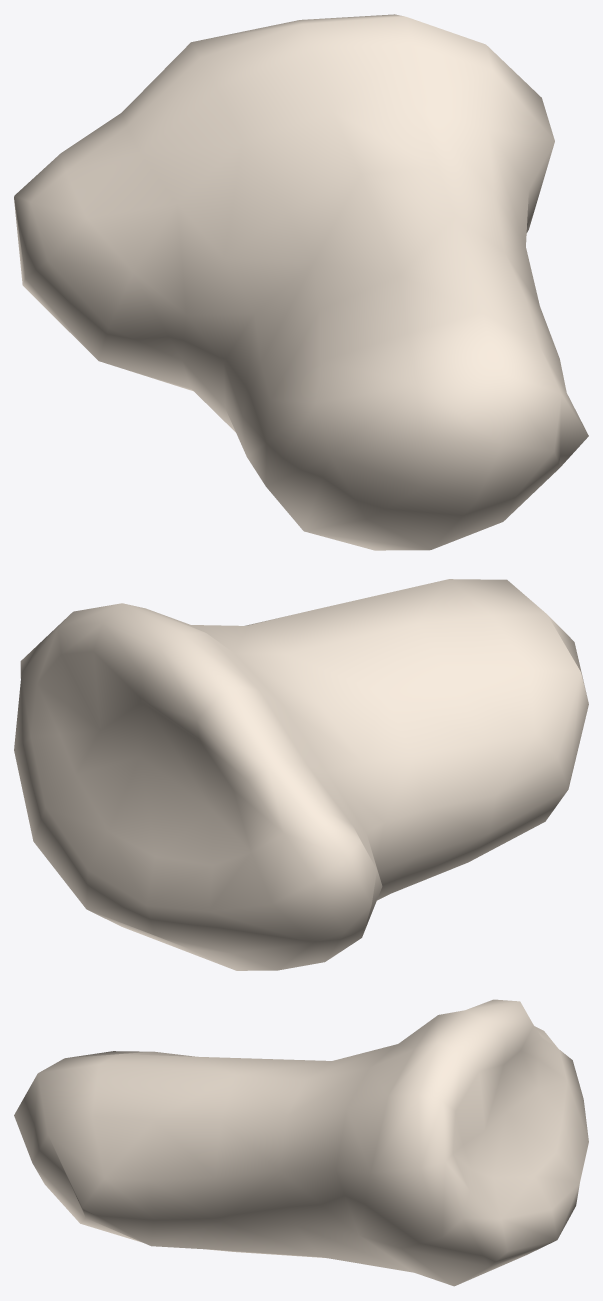
File: right_toe_3_distal.glb
The picture shows the model from 3 angles, top to bottom: view 1: azimuth 30°, elevation 25°; view 2: azimuth 150°, elevation 25°; view 3: azimuth 270°, elevation 25°; orthographic projection. The views are drawn at different scales.
Parts seen in each view (by area): view 1: Distal phalanx of third finger of foot.r; view 2: Distal phalanx of third finger of foot.r; view 3: Distal phalanx of third finger of foot.r.
Part boxes in pixels (x1,y1,x2,y2): Distal phalanx of third finger of foot.r: (14, 14, 588, 550); Distal phalanx of third finger of foot.r: (14, 579, 588, 970); Distal phalanx of third finger of foot.r: (14, 999, 588, 1286).
Bounding box in the file's own units: 0.00831 × 0.00601 × 0.0119.
